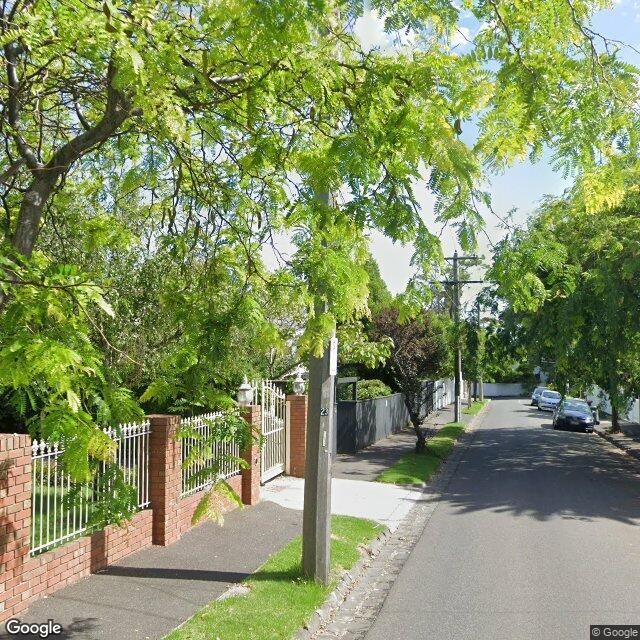concrete-pole: (301, 189, 338, 583), (453, 253, 460, 423)
crossarm: (428, 280, 484, 284), (444, 257, 478, 260)
